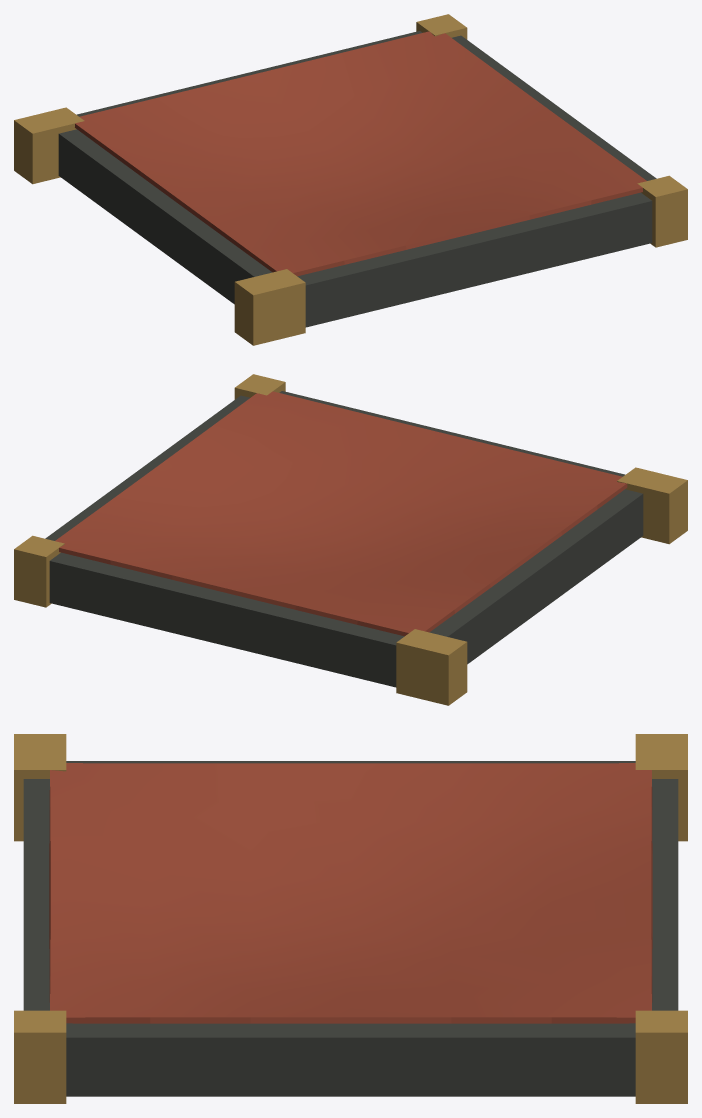
The model's file is roof_canvas.glb.
The picture shows the model from 3 angles, top to bottom: view 1: azimuth 30°, elevation 25°; view 2: azimuth 150°, elevation 25°; view 3: azimuth 270°, elevation 25°; orthographic projection. The views are drawn at different scales.
Parts seen in each view (by area): view 1: roof_canvas; view 2: roof_canvas; view 3: roof_canvas.
Part boxes in pixels (x1,y1,x2,y2): roof_canvas: (14, 14, 687, 345); roof_canvas: (14, 374, 687, 705); roof_canvas: (14, 734, 687, 1103).
Bounding box in the file's own units: 2.16 × 0.24 × 2.06.
